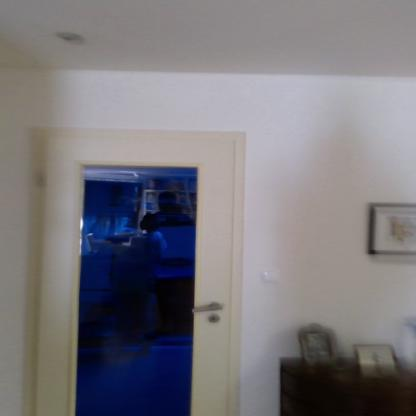door: (43, 138, 233, 416)
hinged: (36, 168, 48, 186)
lever: (186, 302, 226, 314)
